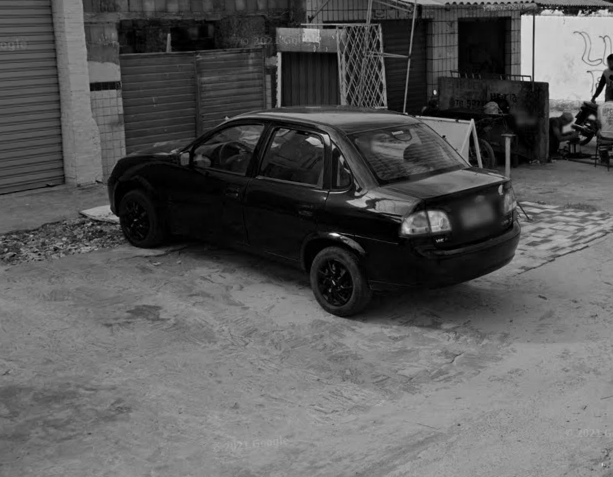car: (103, 102, 523, 316)
